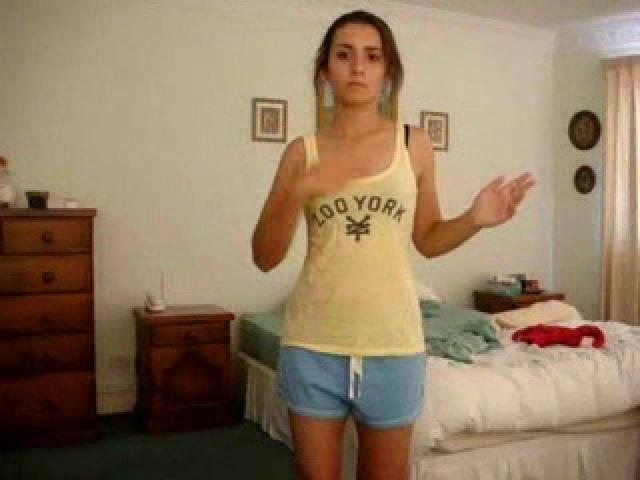F: (252, 10, 534, 480)
